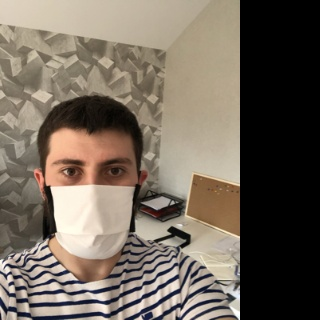with_mask: (42, 147, 138, 258)
